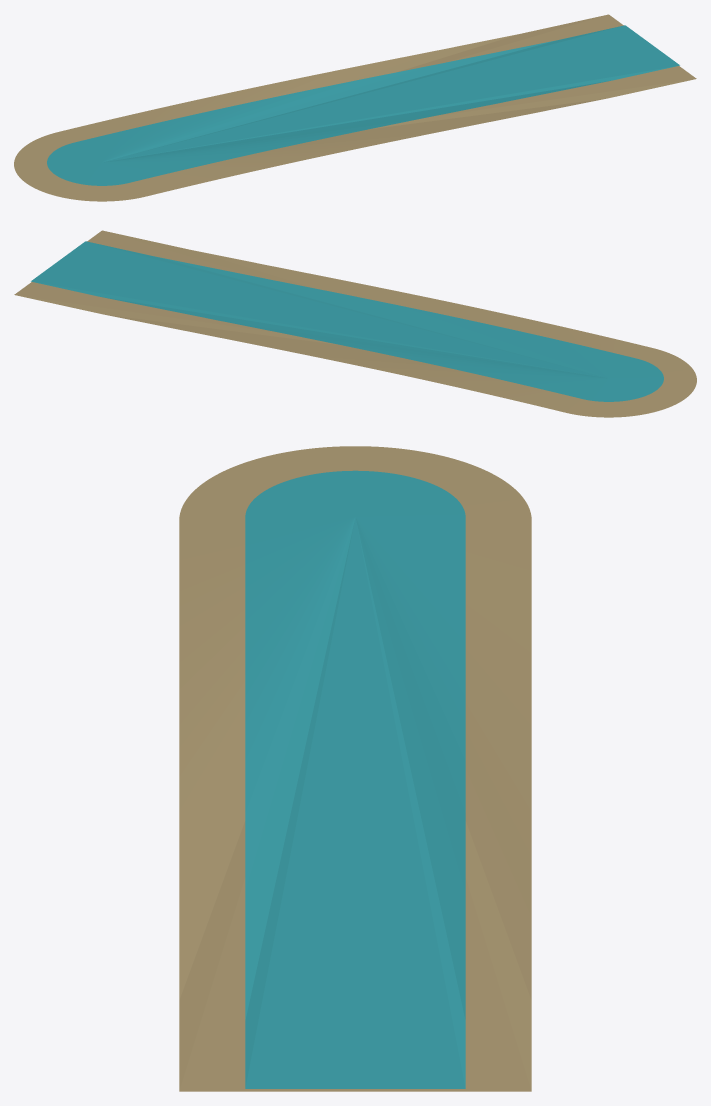
The model's file is RIVER_01.fbx.
3 renders of one model, top to bottom at view 1: azimuth 30°, elevation 25°; view 2: azimuth 150°, elevation 25°; view 3: azimuth 270°, elevation 25°, orthographic. The views are drawn at different scales.
Visible parts, largest first — view 1: Channel_surface.001, Channel_surface; view 2: Channel_surface.001, Channel_surface; view 3: Channel_surface.001, Channel_surface.
Part boxes in pixels (left/top/right/bottom): Channel_surface.001: left=47, top=25, right=679, bottom=185; Channel_surface: left=14, top=14, right=696, bottom=201; Channel_surface.001: left=31, top=241, right=663, bottom=401; Channel_surface: left=14, top=230, right=696, bottom=417; Channel_surface.001: left=245, top=470, right=465, bottom=1088; Channel_surface: left=179, top=446, right=531, bottom=1091.
Size of the model in its own units: 98.6 by 2.8 by 24.
